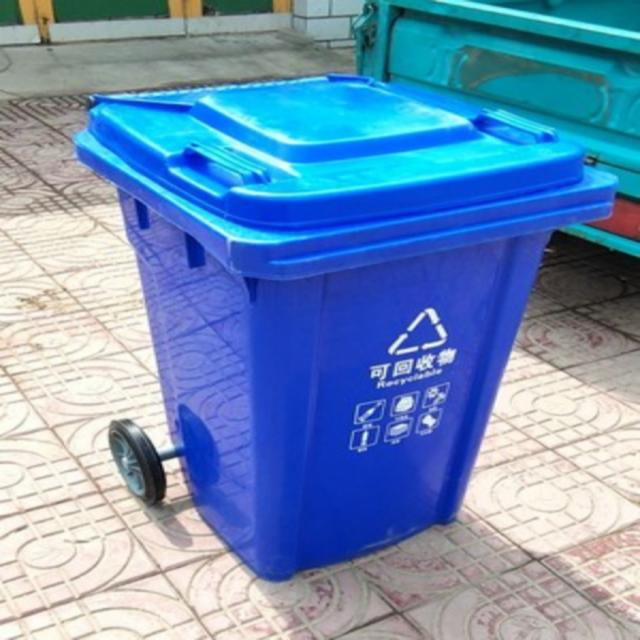ash bin: (62, 70, 621, 580)
tricycle: (350, 2, 636, 266)
